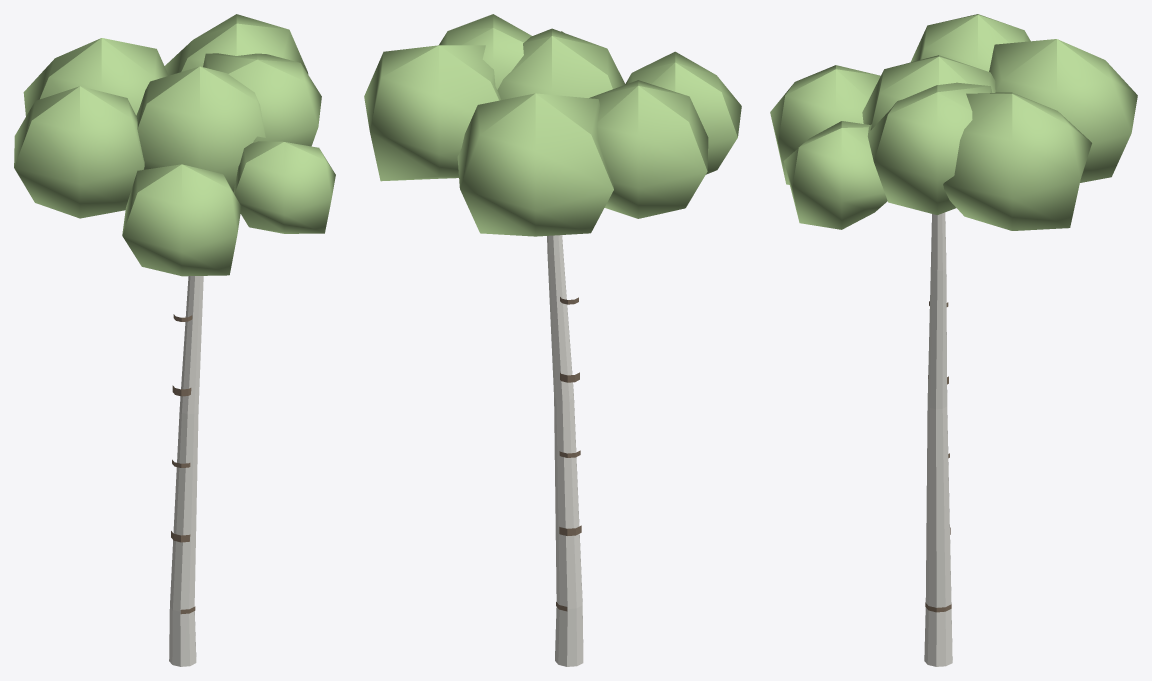
The model's file is birch_mature.glb.
3 views of the same model, side by side, from view 1: azimuth 30°, elevation 25°; view 2: azimuth 150°, elevation 25°; view 3: azimuth 270°, elevation 25° (orthographic). The views are drawn at different scales.
Visible parts, largest first — view 1: birch-mature; view 2: birch-mature; view 3: birch-mature.
Boxes of the visible parts, x1=… form: birch-mature: x1=14, y1=14, x2=335, y2=666; birch-mature: x1=364, y1=14, x2=741, y2=666; birch-mature: x1=770, y1=14, x2=1137, y2=666.
Size of the model in its own units: 3.72 by 6.76 by 3.68.
